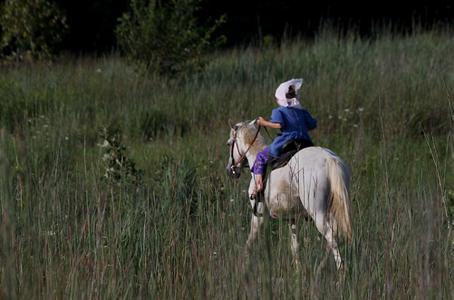person: (249, 77, 318, 201)
